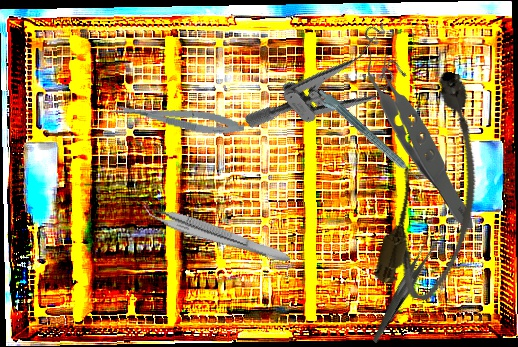Cannula: (370, 66, 507, 307)
Dressing Forceps: (345, 233, 461, 344)
Handpiece: (312, 86, 422, 187)
Micro Scissor: (109, 94, 246, 141)
Speculum: (243, 10, 419, 174)
Tissue Forceps: (364, 41, 477, 229), (137, 199, 295, 266)
